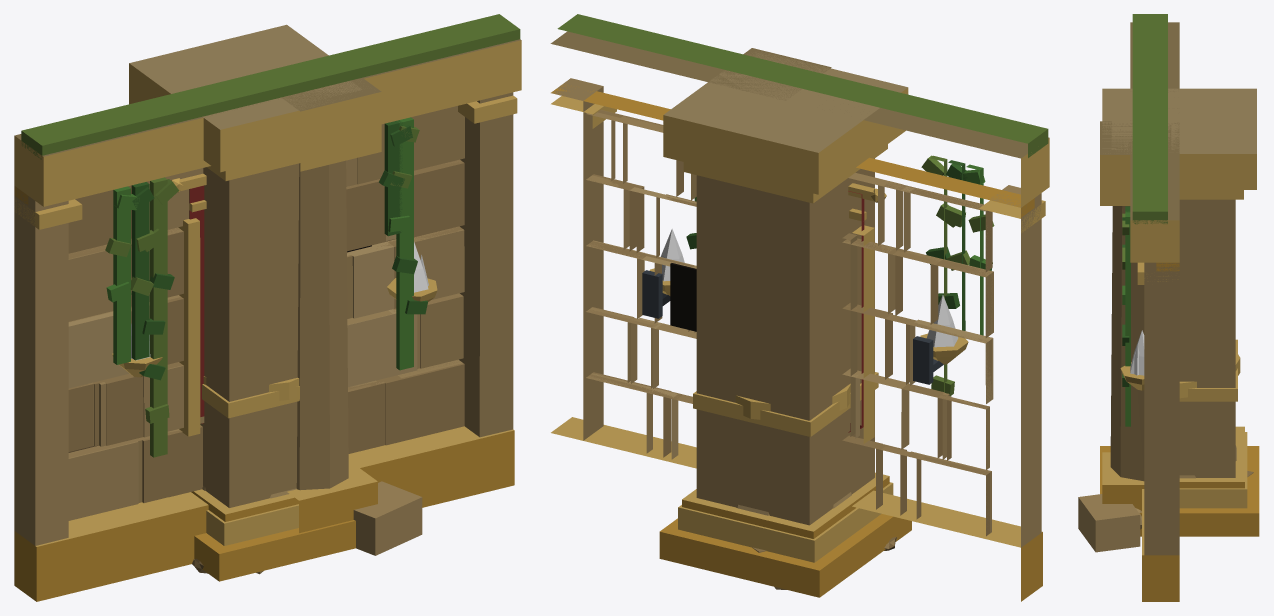
Rendered from dungeon-temple.glb.
The picture shows the model from 3 angles, left to right: view 1: azimuth 30°, elevation 25°; view 2: azimuth 150°, elevation 25°; view 3: azimuth 270°, elevation 25°; orthographic projection. The views are drawn at different scales.
Visible parts, largest first — view 1: dk_temple_wall0, dk_temple_wall1, dk_temple_cornerOut, dk_temple_wall3, dk_temple_cornerIn, dk_temple_pillar0, dk_temple_wall2; view 2: dk_temple_cornerOut, dk_temple_wall0, dk_temple_pillar0, dk_temple_wall1, dk_temple_wall3, dk_temple_wall2, dk_temple_cornerIn, dk_temple_wall3Glow; view 3: dk_temple_cornerOut, dk_temple_wall0, dk_temple_wall1, dk_temple_pillar0, dk_temple_cornerIn, dk_temple_wall3Glow, dk_temple_wall3.
Part boxes in pixels (x1,y1,x2,y2): dk_temple_wall0: (14,39,521,601); dk_temple_wall1: (21,14,520,555); dk_temple_cornerOut: (145,31,361,521); dk_temple_wall3: (68,162,464,520); dk_temple_cornerIn: (282,77,381,533); dk_temple_pillar0: (129,24,361,581); dk_temple_wall2: (68,158,463,502); dk_temple_cornerOut: (678,75,889,538); dk_temple_wall0: (550,31,1049,601); dk_temple_pillar0: (659,51,911,597); dk_temple_wall1: (557,14,1048,475); dk_temple_wall3: (587,110,993,533); dk_temple_wall2: (586,115,991,509); dk_temple_cornerIn: (706,48,831,100); dk_temple_wall3Glow: (661,228,958,347); dk_temple_cornerOut: (1111,92,1247,488); dk_temple_wall0: (1130,22,1179,601); dk_temple_wall1: (1078,14,1167,552); dk_temple_pillar0: (1100,88,1259,536); dk_temple_cornerIn: (1100,121,1179,510); dk_temple_wall3Glow: (1130,330,1144,375); dk_temple_wall3: (1120,362,1144,390).
Bounding box in the file's own units: 4 × 3.74 × 1.55.
